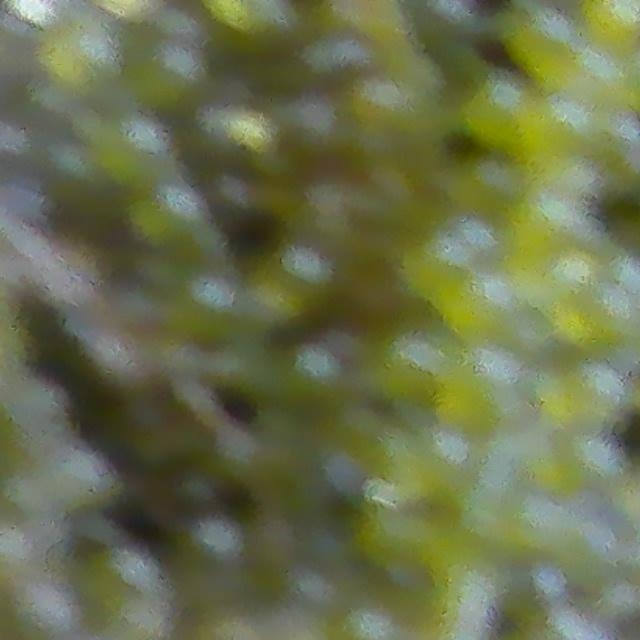SeaGrape: (41, 19, 122, 97)
